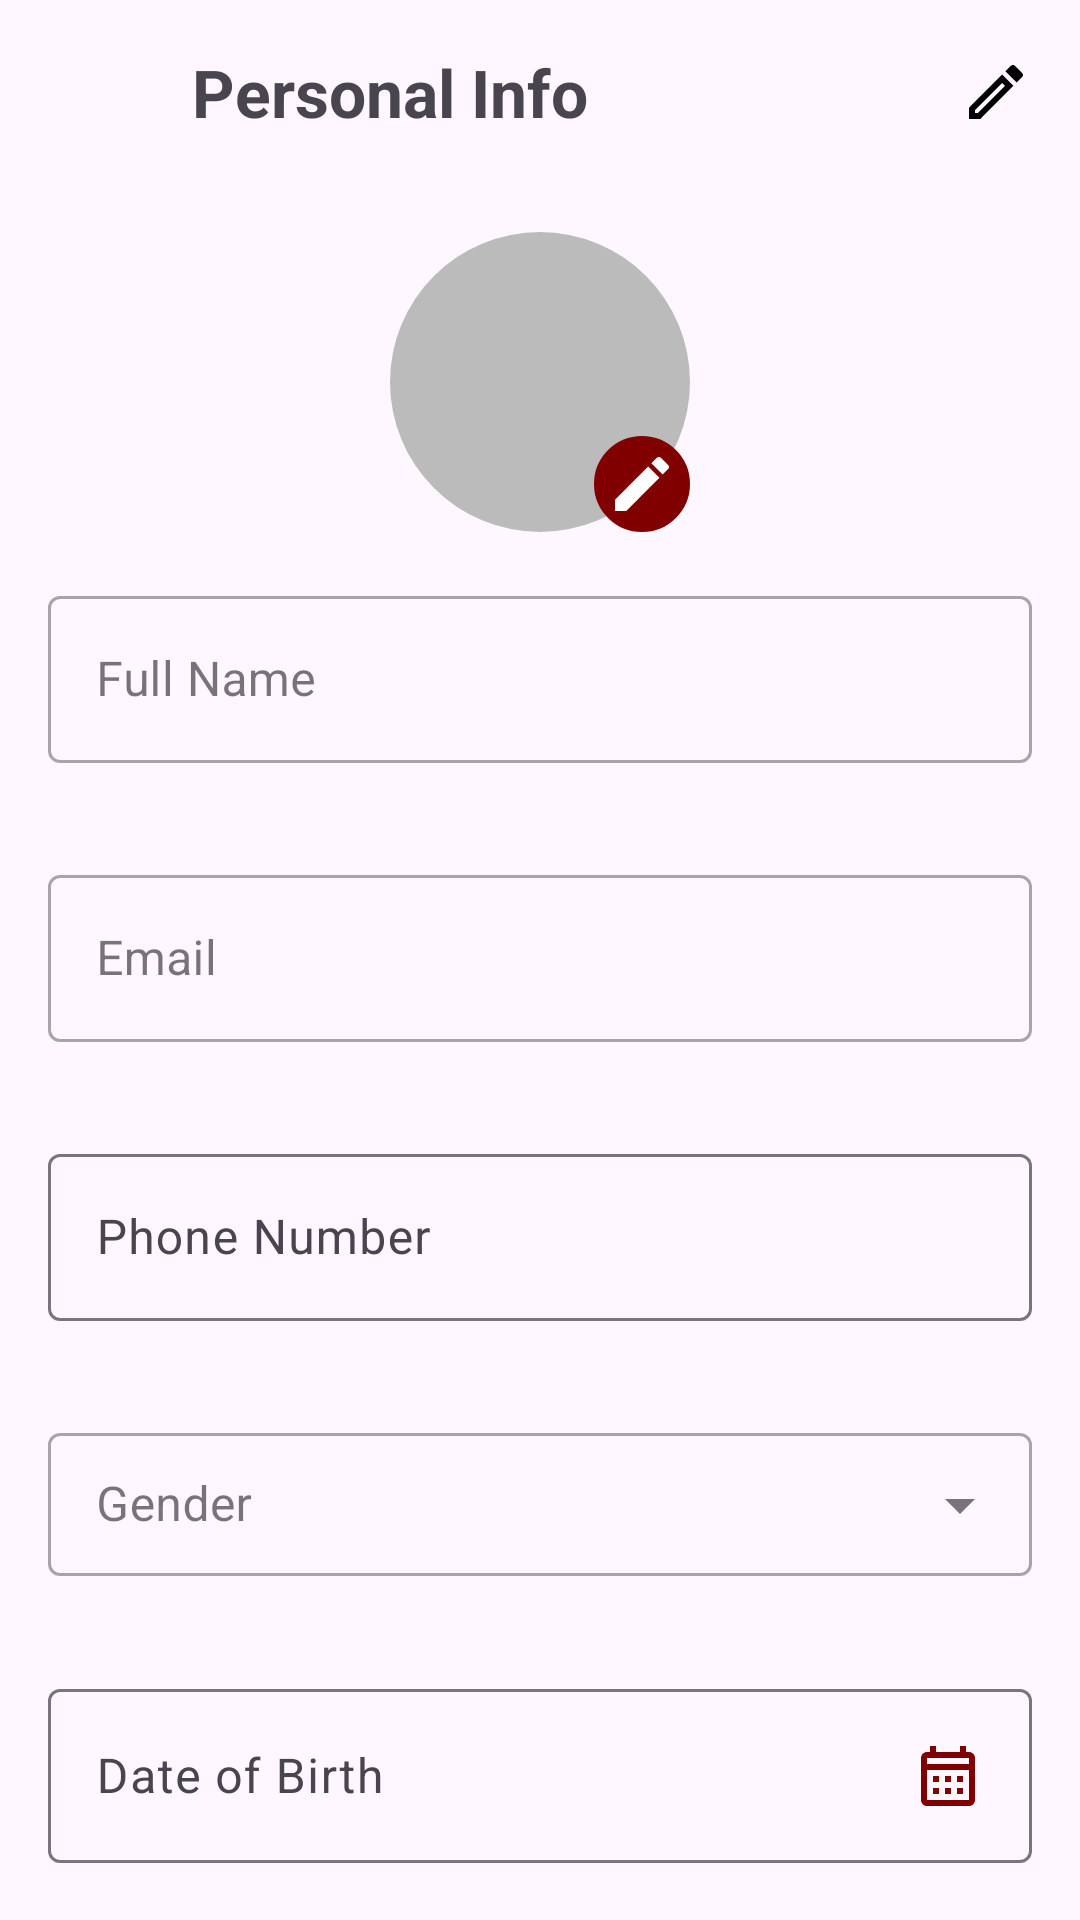

Point at icon controls on the screen. Image size 1080 × 1920, points as [x,y].
edit: [996,92]
edit pp: [642,484]
